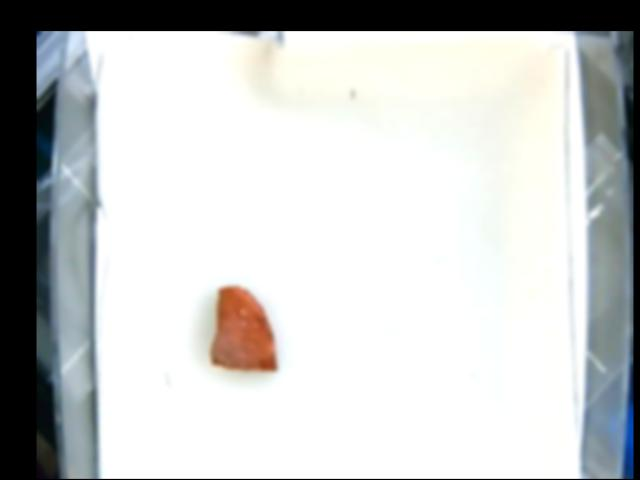Brisk: (210, 284, 275, 375)
